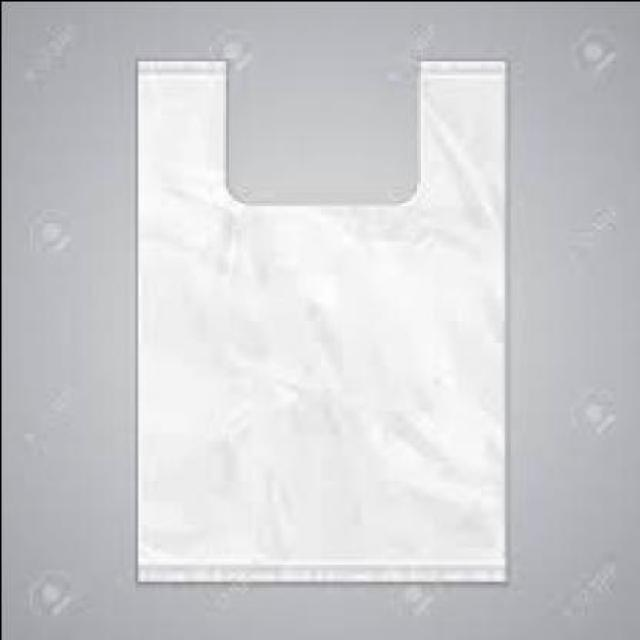PLASTIC: (139, 61, 505, 582)
